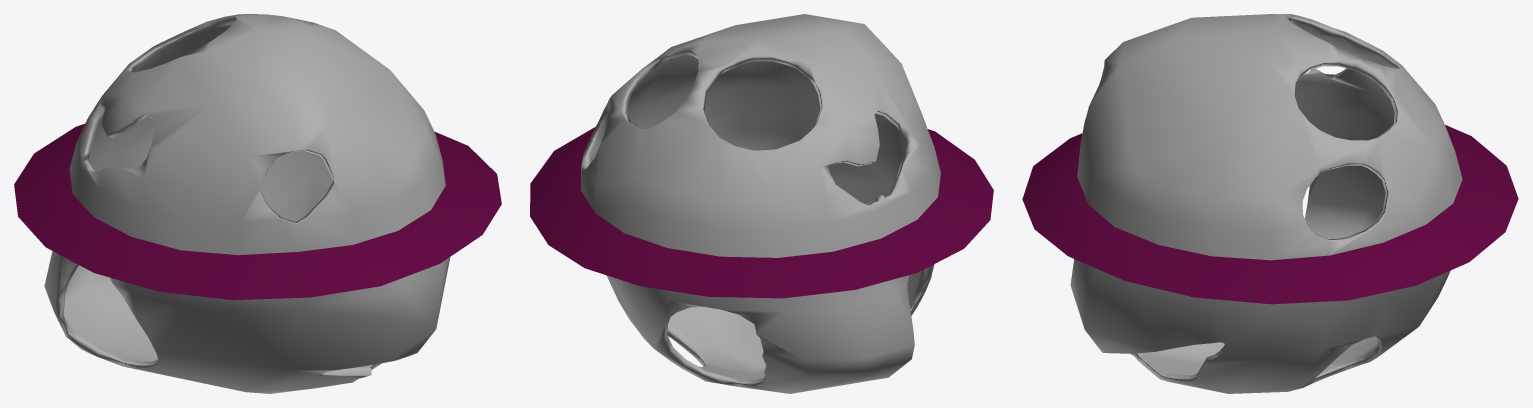
File: pod_01.fbx
The picture shows the model from 3 angles, left to right: view 1: azimuth 30°, elevation 25°; view 2: azimuth 150°, elevation 25°; view 3: azimuth 270°, elevation 25°; orthographic projection. The views are drawn at different scales.
Visible parts, largest first — view 1: pod_01; view 2: pod_01; view 3: pod_01.
Part boxes in pixels (bbox=[...]): pod_01: bbox=[14, 14, 501, 393]; pod_01: bbox=[530, 14, 993, 393]; pod_01: bbox=[1022, 14, 1518, 393].
Size of the model in its own units: 21.77 by 16.99 by 21.81.
